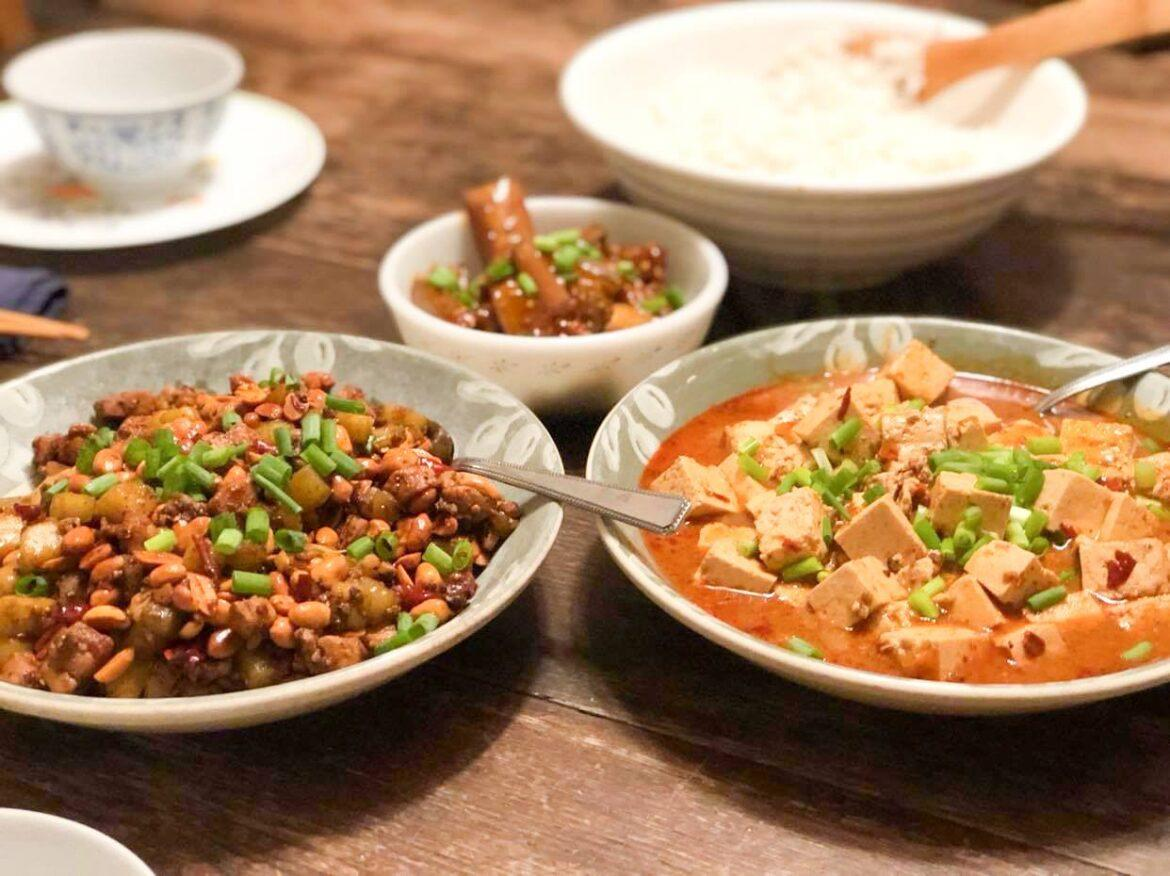Braised Crucian Carp: (589, 315, 1156, 711), (0, 332, 561, 730)
